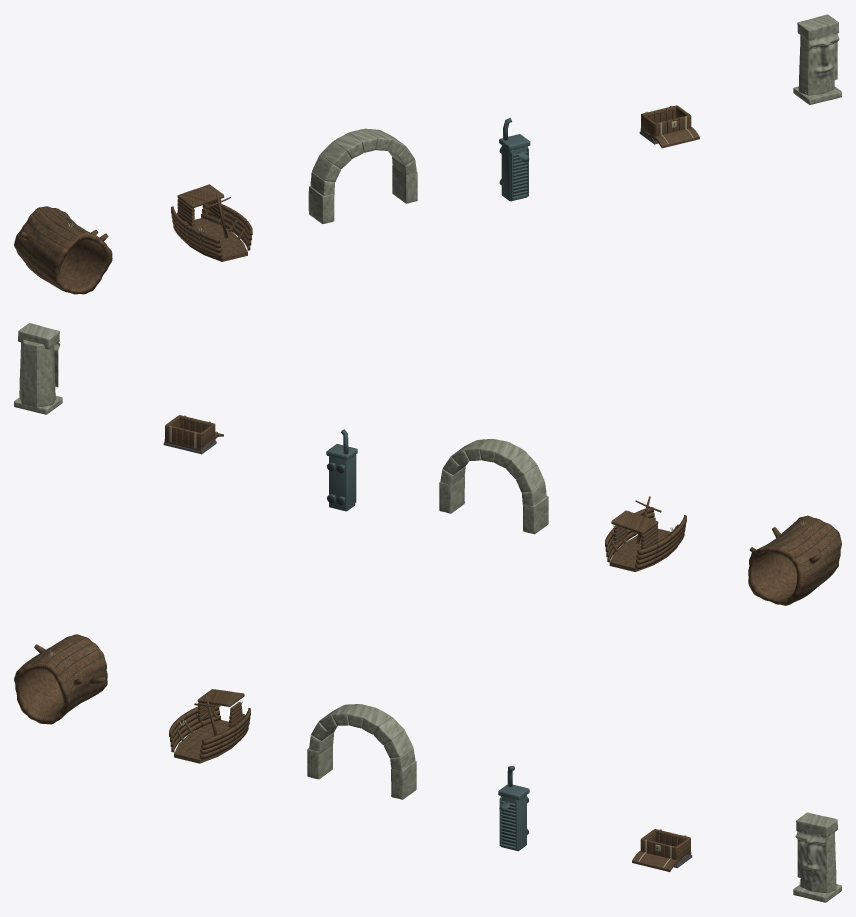
File: reef-props.glb
3 views of the same model, one above another, from view 1: azimuth 30°, elevation 25°; view 2: azimuth 150°, elevation 25°; view 3: azimuth 330°, elevation 25° (orthographic).
Visible parts, largest first — view 1: Bark_And_Bore, Arch_Stone, Statue_Stone, Shipwreck_Wood, Filter_Equipment, Shipwreck_Cut_Wood, Case_Wood, Lid_Wood; view 2: Bark_And_Bore, Arch_Stone, Statue_Stone, Shipwreck_Wood, Filter_Equipment, Case_Wood, Shipwreck_Cut_Wood; view 3: Bark_And_Bore, Arch_Stone, Statue_Stone, Shipwreck_Wood, Filter_Equipment, Shipwreck_Cut_Wood, Case_Wood, Lid_Wood.
Boxes of the visible parts, x1,y1,x2,y2 form: Bark_And_Bore: [14, 206, 112, 294]; Arch_Stone: [308, 128, 417, 223]; Statue_Stone: [793, 14, 841, 104]; Shipwreck_Wood: [171, 184, 252, 257]; Filter_Equipment: [499, 117, 530, 201]; Shipwreck_Cut_Wood: [177, 208, 247, 261]; Case_Wood: [641, 105, 691, 136]; Lid_Wood: [647, 127, 699, 148]; Bark_And_Bore: [748, 515, 841, 605]; Arch_Stone: [439, 439, 548, 534]; Statue_Stone: [14, 323, 62, 414]; Shipwreck_Wood: [605, 496, 686, 569]; Filter_Equipment: [326, 429, 357, 511]; Case_Wood: [165, 415, 215, 448]; Shipwreck_Cut_Wood: [609, 524, 678, 571]; Bark_And_Bore: [14, 634, 107, 724]; Arch_Stone: [307, 704, 416, 799]; Statue_Stone: [793, 812, 841, 902]; Shipwreck_Wood: [169, 689, 250, 759]; Filter_Equipment: [498, 765, 529, 851]; Shipwreck_Cut_Wood: [174, 711, 244, 763]; Case_Wood: [640, 829, 690, 860]; Lid_Wood: [632, 850, 684, 871].
Size of what is drawn, in the model's own units: 37.25 by 4.48 by 3.72.
Materials: 8 (3 with a texture image).
